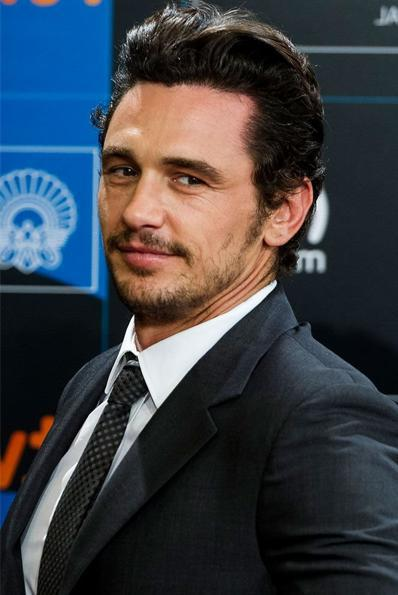Sober: (92, 94, 258, 299)
